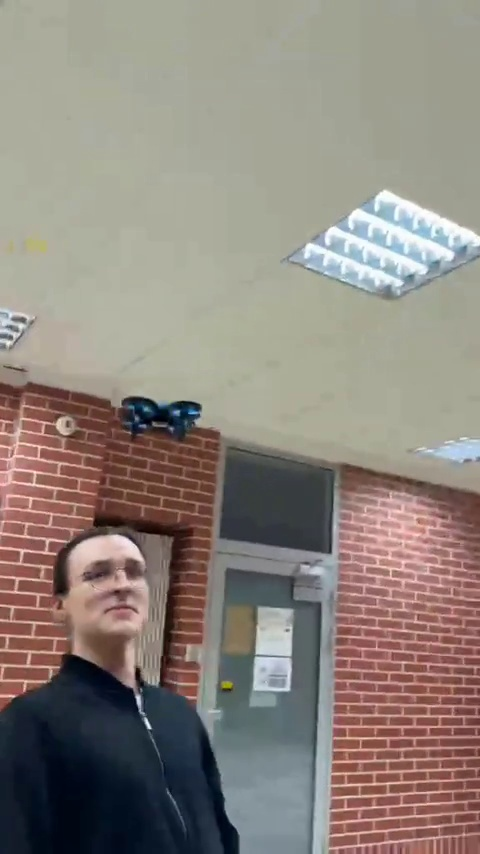drone: (114, 397, 207, 439)
no vest: (6, 527, 246, 854)
